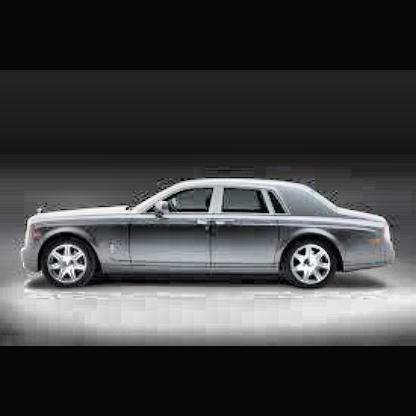Rolls-Royce Phantom Sedan 2012: (15, 162, 415, 304)
